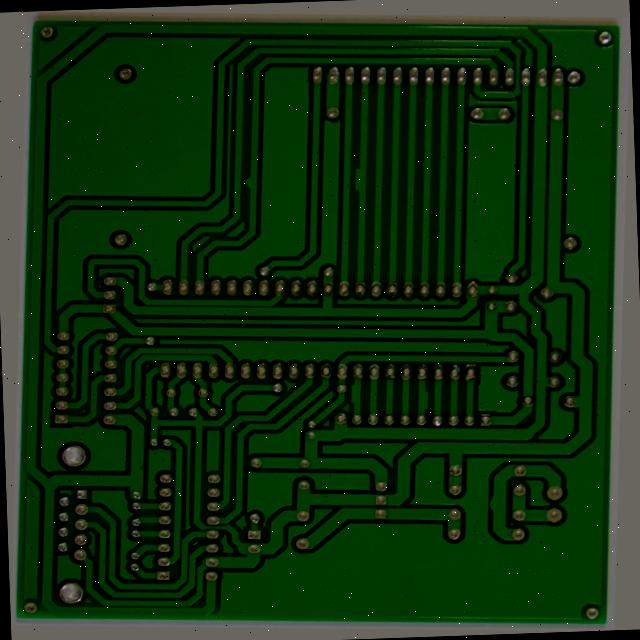spur: (344, 151, 366, 189), (508, 487, 527, 515), (228, 168, 247, 191), (354, 380, 369, 408), (430, 384, 446, 410)
